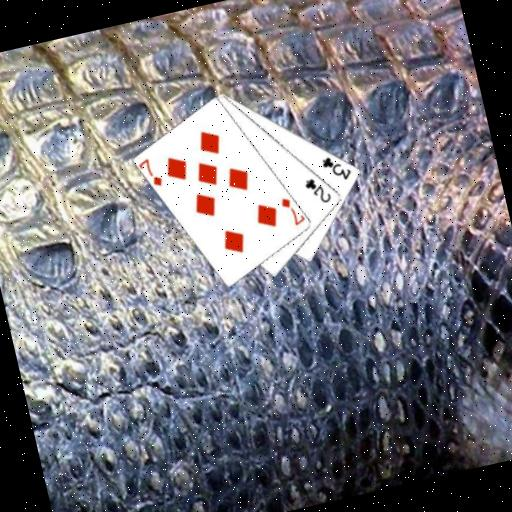2C: (301, 172, 334, 209)
3C: (317, 149, 355, 186)
7D: (277, 192, 307, 230), (136, 154, 166, 192)
